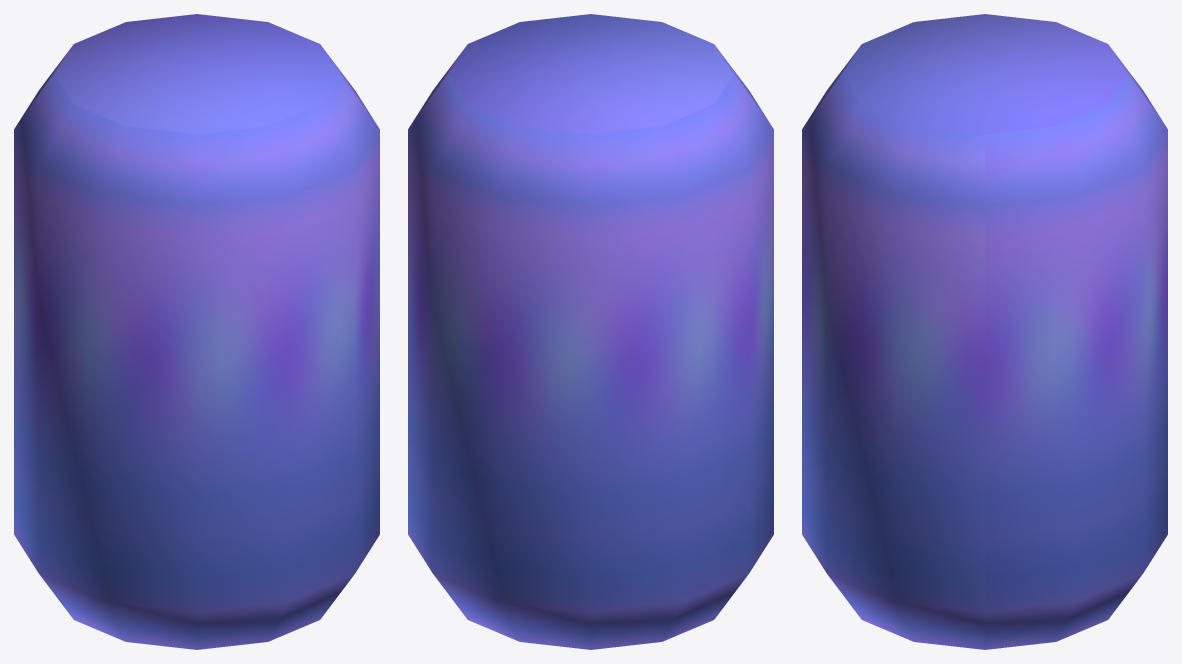
Rendered from godot_tangent_bake_invalid_color_wiring.glb.
3 renders of one model, left to right at view 1: azimuth 30°, elevation 25°; view 2: azimuth 150°, elevation 25°; view 3: azimuth 270°, elevation 25°, orthographic.
Visible parts, largest first — view 1: Godot_Tangent_Bake_Invalid_Color_Wiring; view 2: Godot_Tangent_Bake_Invalid_Color_Wiring; view 3: Godot_Tangent_Bake_Invalid_Color_Wiring.
Boxes of the visible parts, x1,y1,x2,y2 form: Godot_Tangent_Bake_Invalid_Color_Wiring: (14,14,379,649); Godot_Tangent_Bake_Invalid_Color_Wiring: (408,14,773,649); Godot_Tangent_Bake_Invalid_Color_Wiring: (802,14,1167,649).
Bounding box in the file's own units: 1.8 × 2.8 × 1.8.
Materials: 1 (1 with a texture image).
